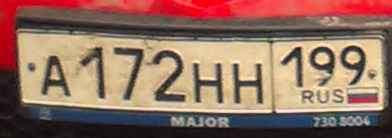character: (112, 42, 146, 106), (152, 48, 188, 107), (227, 57, 266, 109), (77, 42, 111, 101), (191, 57, 226, 107), (40, 50, 74, 101), (340, 41, 371, 87), (279, 43, 308, 92), (306, 42, 334, 90)
